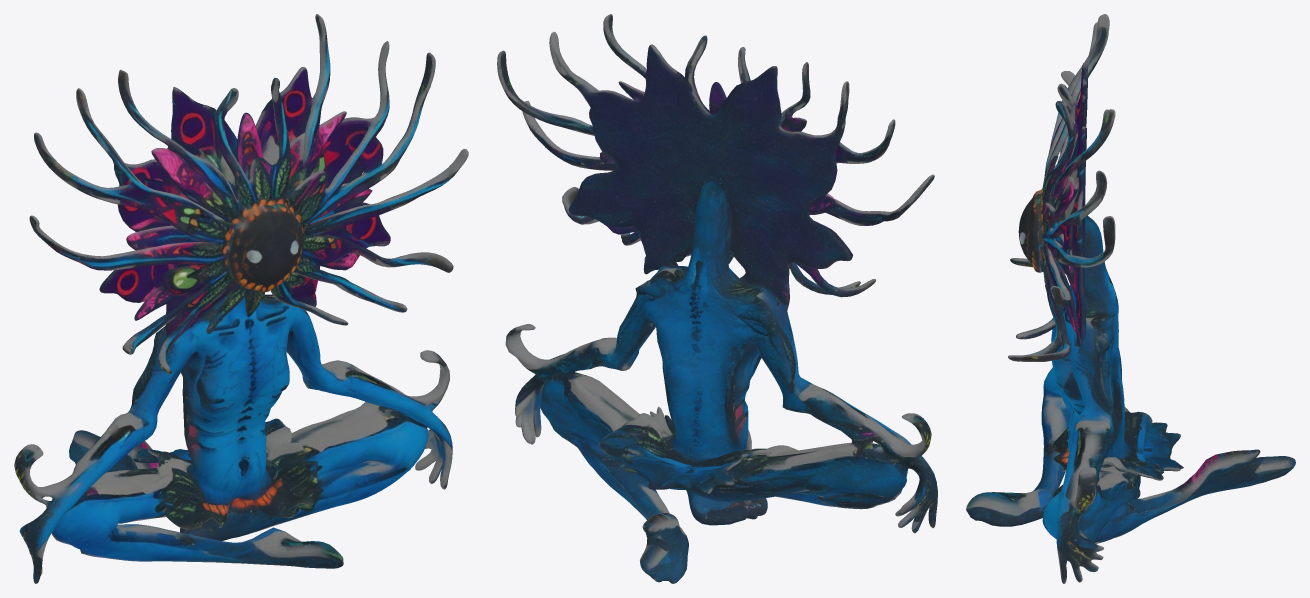
Rendered from cinder-blue-humanoid.glb.
3 views of the same model, side by side, from view 1: azimuth 30°, elevation 25°; view 2: azimuth 150°, elevation 25°; view 3: azimuth 270°, elevation 25° (orthographic). The views are drawn at different scales.
Parts seen in each view (by area): view 1: BlueHumanoid_Surface; view 2: BlueHumanoid_Surface; view 3: BlueHumanoid_Surface.
Part boxes in pixels (x1,y1,x2,y2): BlueHumanoid_Surface: [14, 14, 468, 583]; BlueHumanoid_Surface: [497, 14, 937, 583]; BlueHumanoid_Surface: [966, 14, 1295, 583].
Bounding box in the file's own units: 2.22 × 2.41 × 1.63.
1 material, 1 textured.
